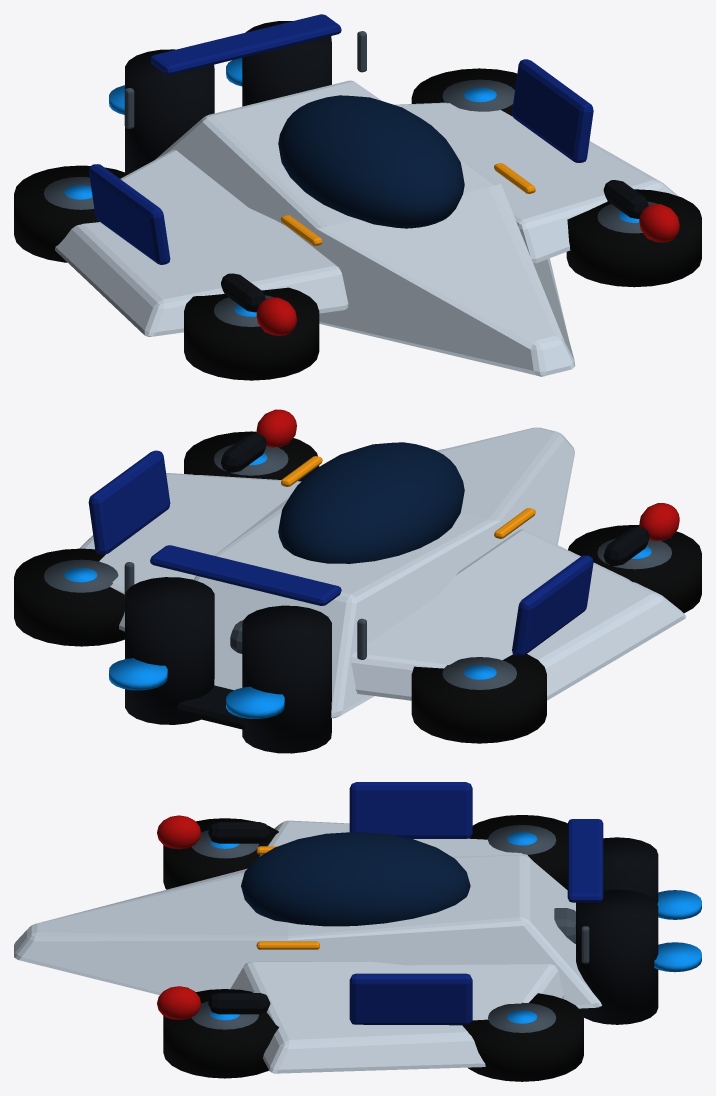
File: arwing2_carro_detallado.obj
3 views of the same model, one above another, from view 1: azimuth 30°, elevation 25°; view 2: azimuth 150°, elevation 25°; view 3: azimuth 270°, elevation 25° (orthographic). The views are drawn at different scales.
Parts seen in each view (by area): view 1: Arwing_Car_MainHull, Arwing_Car_Wing_L, Arwing_Car_Cockpit, Arwing_Car_Wing_R, Arwing_Car_FrontWheel_L_Tire, Arwing_Car_FrontWheel_R_Tire, Arwing_Car_Engine_L, Arwing_Car_BlueFin_R, Arwing_Car_Engine_R, Arwing_Car_RearWheel_L_Tire, Arwing_Car_RearWing, Arwing_Car_BlueFin_L (+9 smaller); view 2: Arwing_Car_MainHull, Arwing_Car_Wing_L, Arwing_Car_Cockpit, Arwing_Car_Engine_L, Arwing_Car_Engine_R, Arwing_Car_Wing_R, Arwing_Car_RearWheel_L_Tire, Arwing_Car_RearWheel_R_Tire, Arwing_Car_BlueFin_R, Arwing_Car_FrontWheel_L_Tire, Arwing_Car_RearWing, Arwing_Car_BlueFin_L (+12 smaller); view 3: Arwing_Car_MainHull, Arwing_Car_Wing_R, Arwing_Car_Cockpit, Arwing_Car_Engine_R, Arwing_Car_BlueFin_L, Arwing_Car_RearWheel_R_Tire, Arwing_Car_BlueFin_R, Arwing_Car_FrontWheel_R_Tire, Arwing_Car_RearWing, Arwing_Car_Engine_L, Arwing_Car_FrontWheel_L_Tire, Arwing_Car_RearWheel_L_Tire (+13 smaller).
Part boxes in pixels (x1,y1,x2,y2): Arwing_Car_MainHull: (155,80,575,376); Arwing_Car_Wing_L: (55,150,348,336); Arwing_Car_Cockpit: (278,95,464,228); Arwing_Car_Wing_R: (394,102,678,263); Arwing_Car_FrontWheel_L_Tire: (184,287,319,380); Arwing_Car_FrontWheel_R_Tire: (566,189,701,287); Arwing_Car_Engine_L: (125,49,214,173); Arwing_Car_BlueFin_R: (512,59,593,162); Arwing_Car_Engine_R: (242,21,331,106); Arwing_Car_RearWheel_L_Tire: (14,165,128,262); Arwing_Car_RearWing: (150,14,341,74); Arwing_Car_BlueFin_L: (88,164,170,264); Arwing_Car_MainHull: (194,427,574,718); Arwing_Car_Wing_L: (351,529,686,700); Arwing_Car_Cockpit: (278,442,464,563); Arwing_Car_Engine_L: (242,605,331,753); Arwing_Car_Engine_R: (125,577,214,724); Arwing_Car_Wing_R: (79,473,301,631); Arwing_Car_RearWheel_L_Tire: (411,654,546,743); Arwing_Car_RearWheel_R_Tire: (14,548,124,646); Arwing_Car_BlueFin_R: (88,450,170,554); Arwing_Car_FrontWheel_L_Tire: (568,525,701,613); Arwing_Car_RearWing: (150,545,341,605); Arwing_Car_BlueFin_L: (512,555,593,656); Arwing_Car_MainHull: (14,854,601,1008); Arwing_Car_Wing_R: (230,961,564,1073); Arwing_Car_Cockpit: (241,832,470,926); Arwing_Car_Engine_R: (576,889,658,1024); Arwing_Car_BlueFin_L: (349,782,472,838); Arwing_Car_RearWheel_R_Tire: (462,993,583,1081); Arwing_Car_BlueFin_R: (349,973,472,1025); Arwing_Car_FrontWheel_R_Tire: (163,989,278,1078); Arwing_Car_RearWing: (567,819,603,902); Arwing_Car_Engine_L: (576,837,658,906); Arwing_Car_FrontWheel_L_Tire: (163,818,278,889); Arwing_Car_RearWheel_L_Tire: (469,815,567,889).
Bounding box in the file's own units: 7.21 × 1.95 × 8.68.
